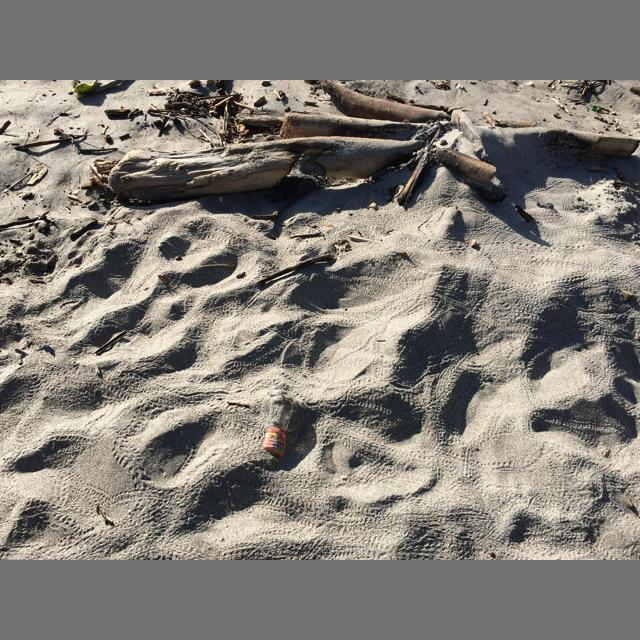litter: (263, 389, 295, 468)
